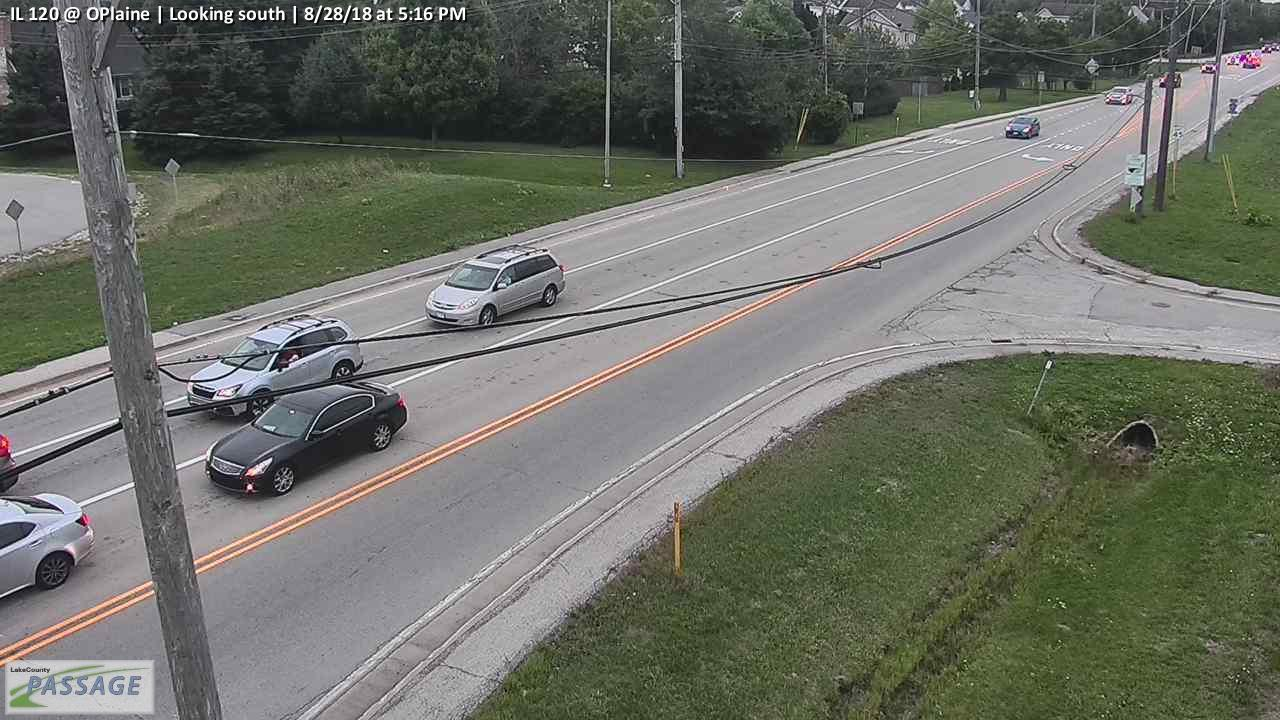SUV: (186, 313, 366, 424), (422, 243, 567, 331), (1005, 115, 1041, 138)
Sedan: (204, 375, 408, 498), (1105, 86, 1133, 104)
